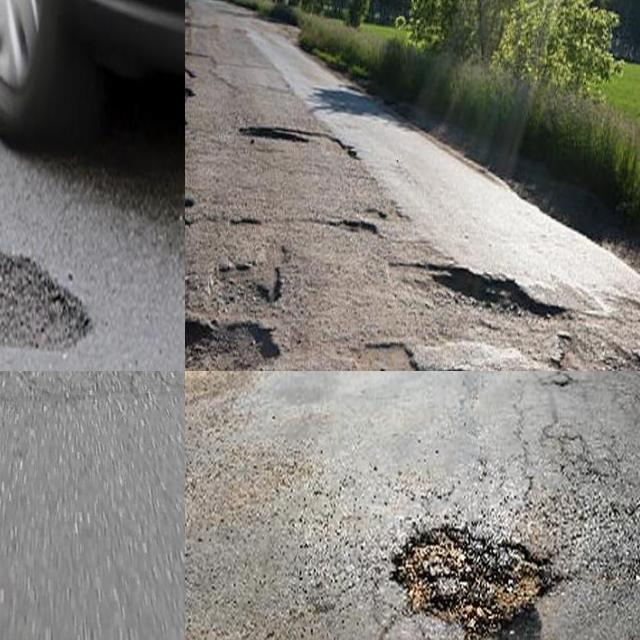Lubang: (387, 534, 560, 640), (394, 262, 551, 325), (0, 253, 89, 349), (185, 313, 297, 371), (559, 331, 640, 371), (242, 126, 348, 156), (350, 341, 453, 371)
Retak Buaya: (0, 371, 185, 436)
